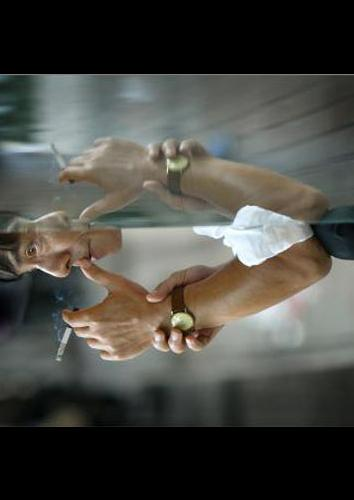Cigarette: (49, 143, 74, 183), (56, 326, 72, 360)
